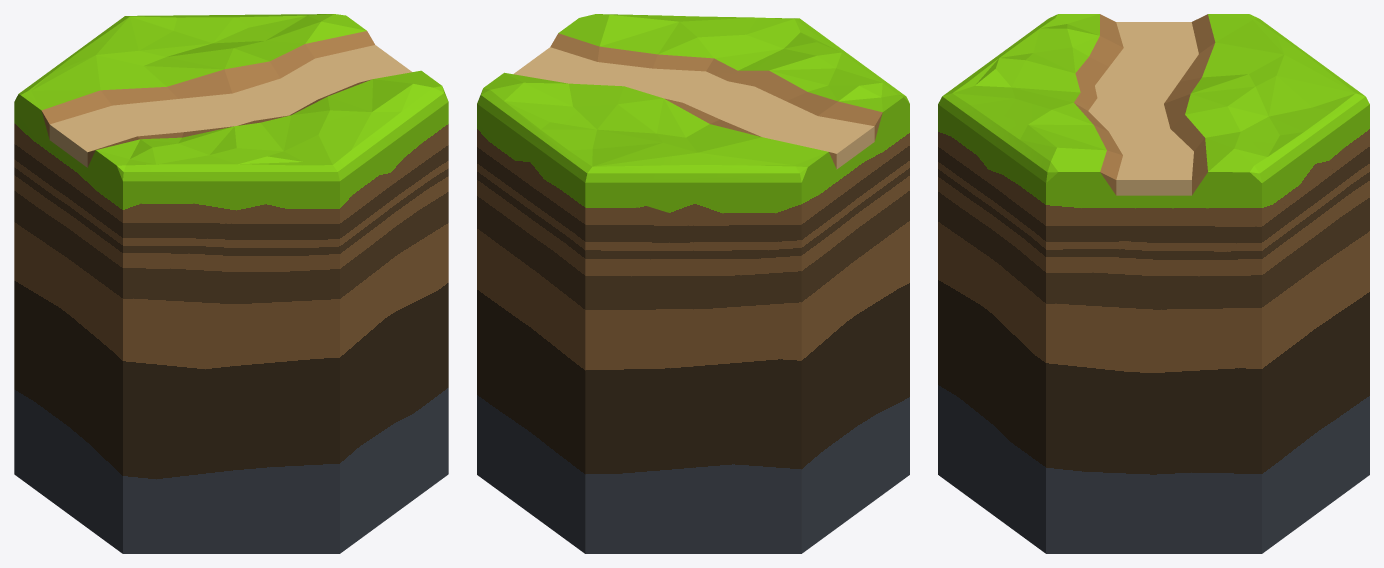
The model's file is HexTilePath_Straight_v1.glb.
The picture shows the model from 3 angles, left to right: view 1: azimuth 30°, elevation 25°; view 2: azimuth 150°, elevation 25°; view 3: azimuth 270°, elevation 25°; orthographic projection.
Visible parts, largest first — view 1: SM_Tile_Hex_Path_01; view 2: SM_Tile_Hex_Path_01; view 3: SM_Tile_Hex_Path_01.
Boxes of the visible parts, x1=… form: SM_Tile_Hex_Path_01: x1=14, y1=14, x2=448, y2=553; SM_Tile_Hex_Path_01: x1=477, y1=14, x2=909, y2=553; SM_Tile_Hex_Path_01: x1=938, y1=14, x2=1369, y2=553.
Bounding box in the file's own units: 1.73 × 2 × 2.
Materials: 1 (1 with a texture image).
